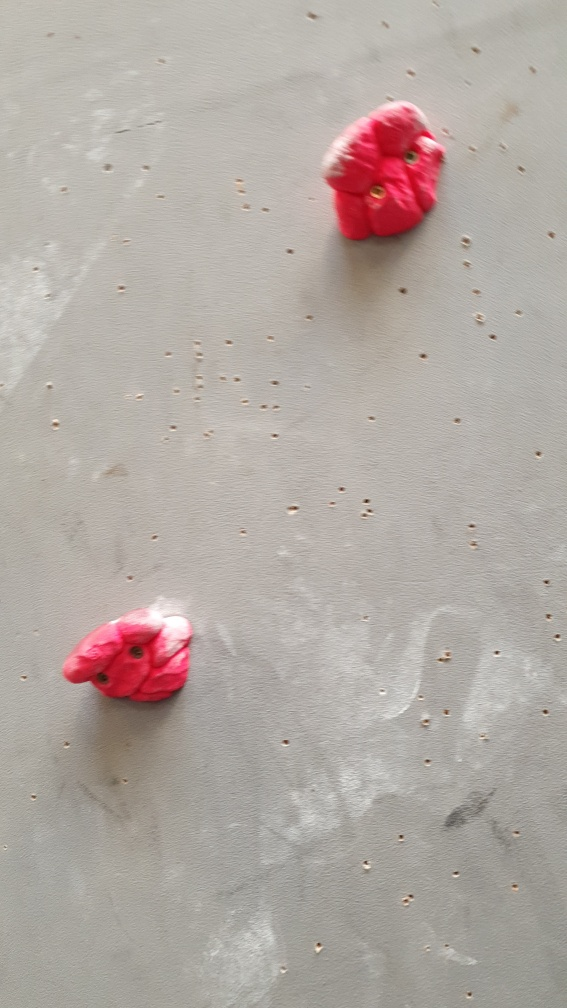Jug: (322, 99, 449, 244), (64, 605, 198, 709)
